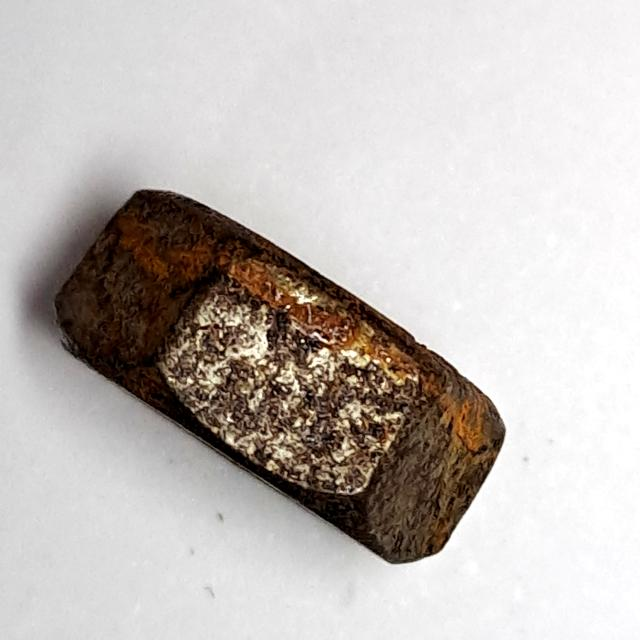Side_Rust: (42, 182, 516, 580)
